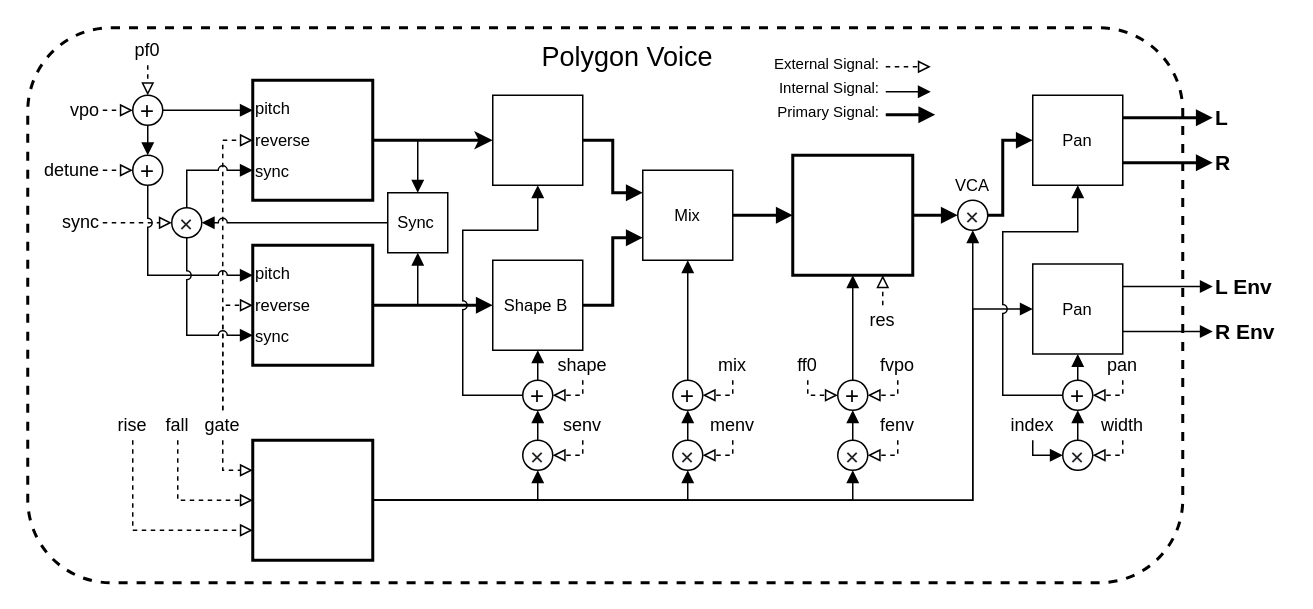
The diagram is 1313 pixels wide and 609 high, and some of its shapes have lost their labels. The shapes that lost their labels are listed below. From the top down, each one's box as (x1, y1, x2, y2) in pixels, then its label:
(250, 78, 374, 201): Osc A
(491, 94, 583, 185): Shape A
(790, 153, 914, 276): Filter
(250, 243, 374, 366): Osc B
(250, 438, 374, 561): Envelope
